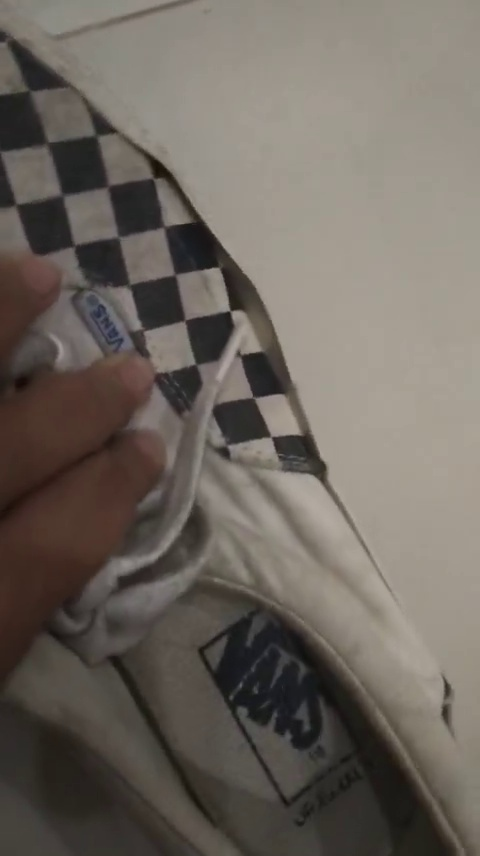bonding: (157, 161, 316, 437)
